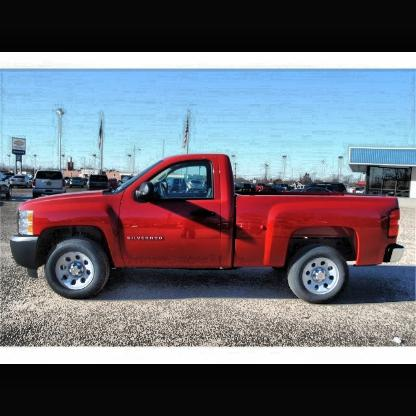Chevrolet Silverado 1500 Regular Cab 2012: (9, 152, 407, 306)
